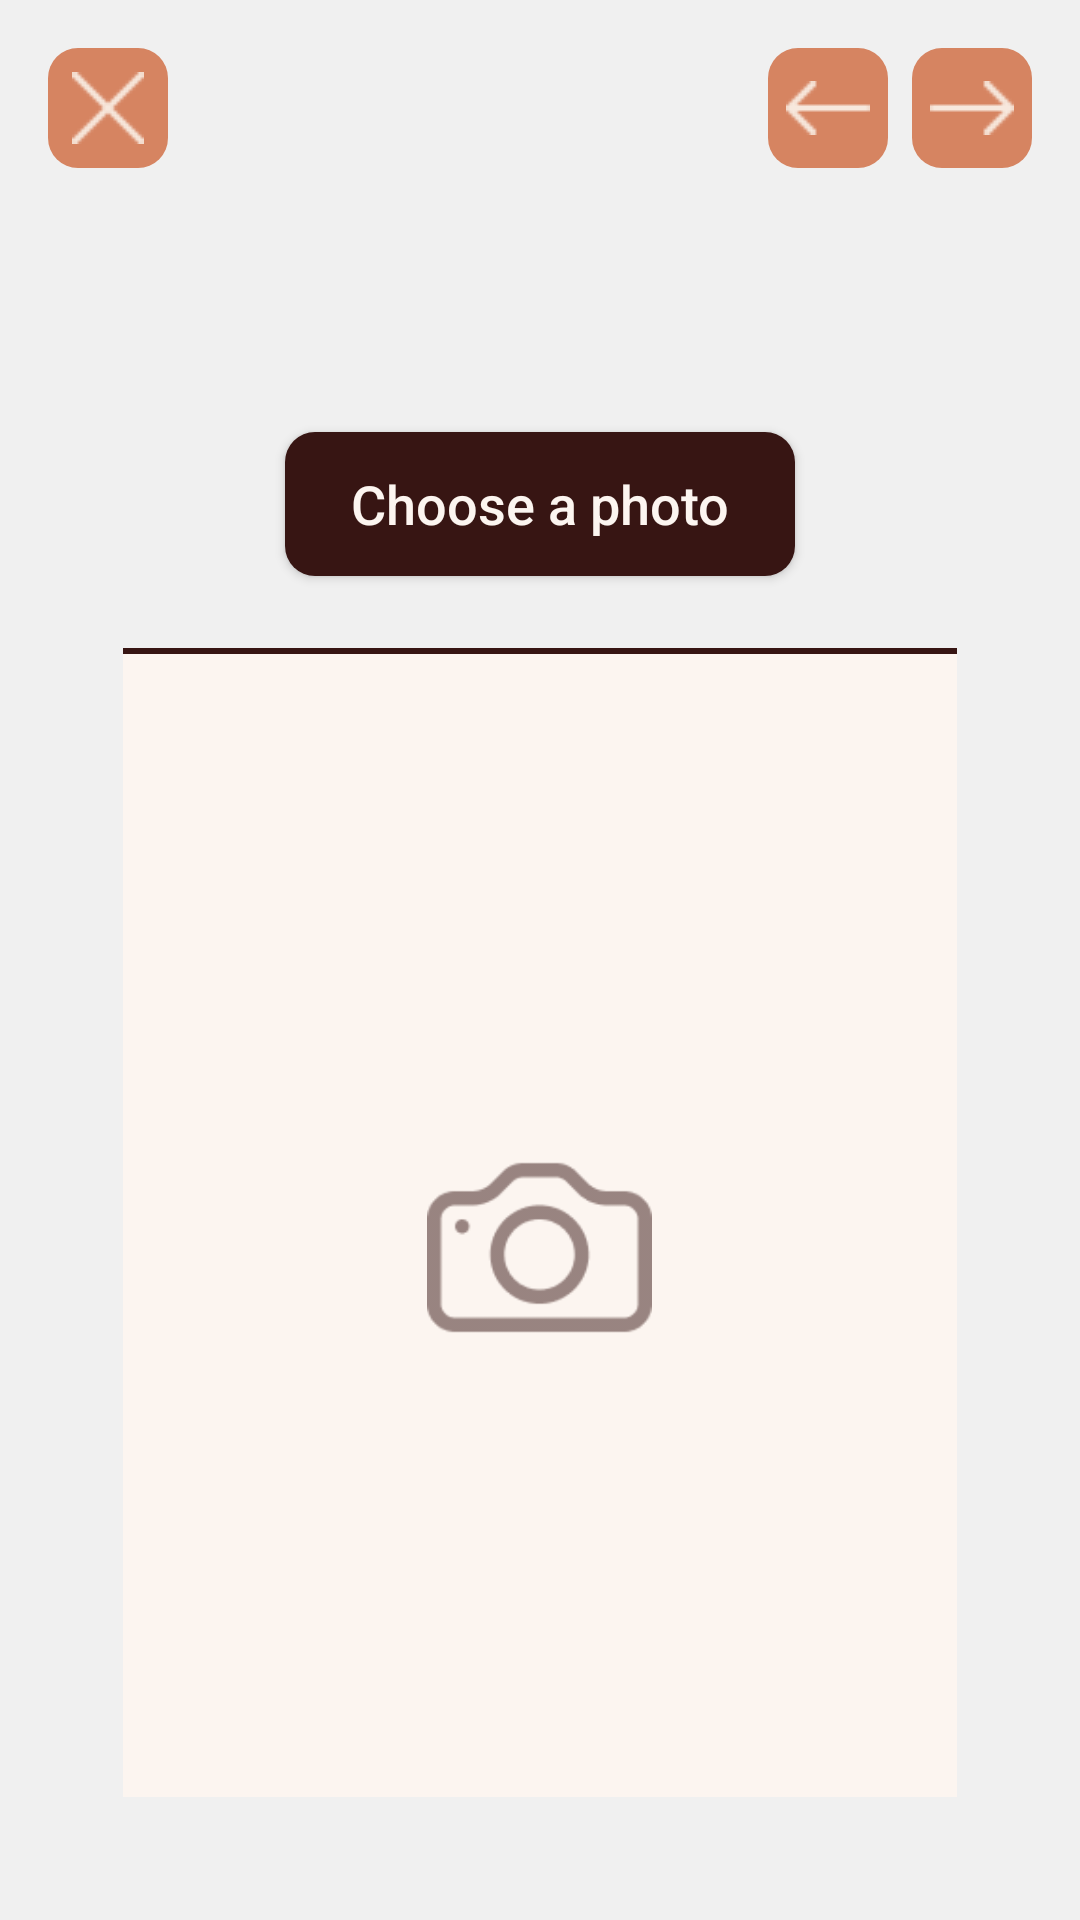

Locate icon controls on the screen. Image size 1080x1920, boxes as (x1, y1, x2, y2).
camera: (427, 1163, 652, 1332)
close: (48, 48, 168, 168)
left arrow: (768, 48, 888, 168)
right arrow: (912, 48, 1032, 168)
